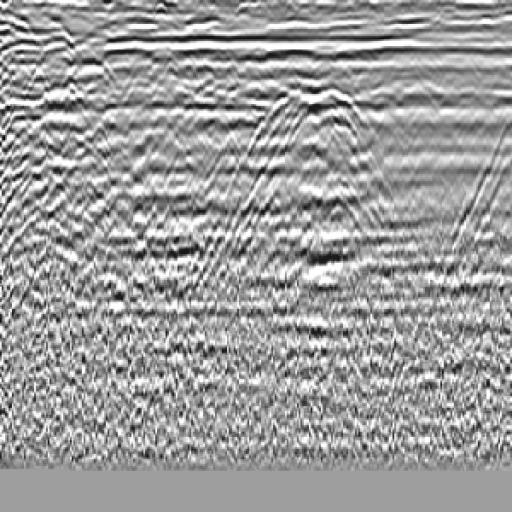metalic: (266, 76, 385, 178)
